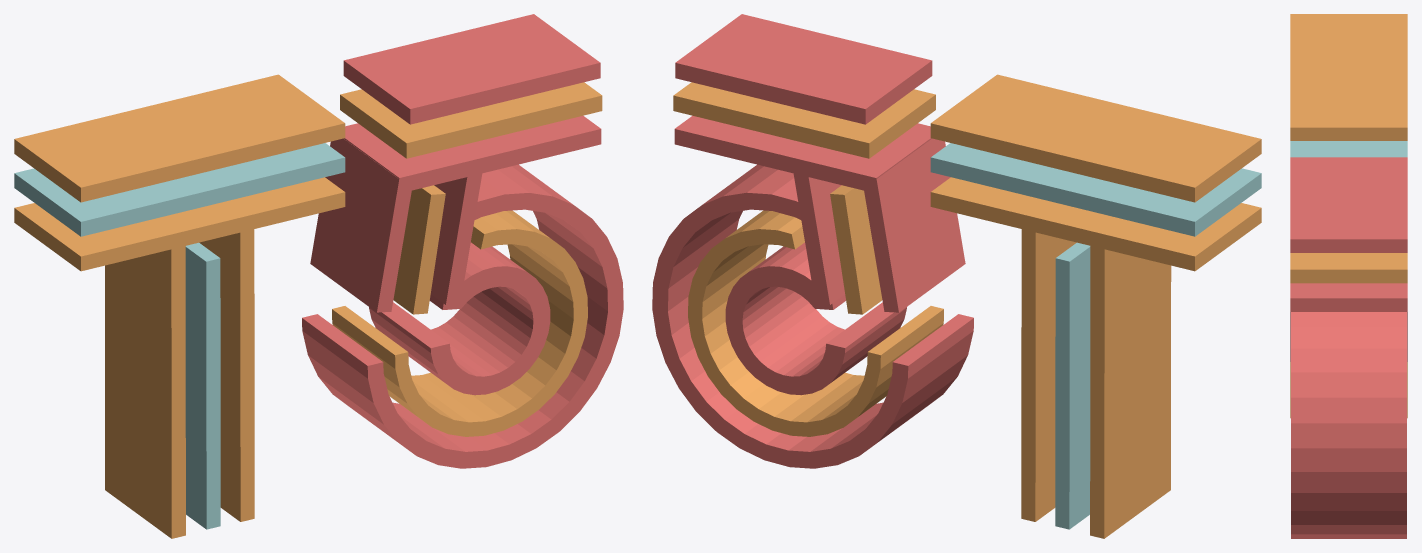
File: example.glb
3 renders of one model, left to right at view 1: azimuth 30°, elevation 25°; view 2: azimuth 150°, elevation 25°; view 3: azimuth 270°, elevation 25°, orthographic. The views are drawn at different scales.
Parts seen in each view (by area): view 1: outer-cylinder, T-Top, T-left, Cylinder-mid, 5-top, Cylinder, T-bottom, T-middle, 5-bottom.001, T-Right, T-lower-middle, 5-mid (+3 smaller); view 2: outer-cylinder, T-Top, T-left, Cylinder-mid, 5-top, Cylinder, T-bottom, T-middle, 5-bottom.001, T-Right, T-lower-middle, 5-mid (+3 smaller); view 3: outer-cylinder, T-Top, 5-top, 5-mid, 5-bottom, T-middle.
Boxes of the visible parts, x1=… form: outer-cylinder: x1=302, y1=164, x2=623, y2=468; T-Top: x1=14, y1=74, x2=345, y2=202; T-left: x1=105, y1=240, x2=185, y2=538; Cylinder-mid: x1=332, y1=210, x2=587, y2=436; 5-top: x1=343, y1=14, x2=600, y2=124; Cylinder: x1=369, y1=242, x2=550, y2=395; T-bottom: x1=14, y1=177, x2=345, y2=271; T-middle: x1=14, y1=143, x2=345, y2=236; 5-bottom.001: x1=310, y1=138, x2=412, y2=312; T-Right: x1=199, y1=224, x2=254, y2=521; T-lower-middle: x1=185, y1=242, x2=220, y2=529; 5-mid: x1=340, y1=82, x2=602, y2=158; outer-cylinder: x1=652, y1=164, x2=973, y2=468; T-Top: x1=930, y1=74, x2=1261, y2=202; T-left: x1=1090, y1=240, x2=1171, y2=538; Cylinder-mid: x1=688, y1=210, x2=943, y2=436; 5-top: x1=675, y1=14, x2=932, y2=124; Cylinder: x1=725, y1=242, x2=906, y2=395; T-bottom: x1=930, y1=177, x2=1261, y2=271; T-middle: x1=930, y1=143, x2=1261, y2=236; 5-bottom.001: x1=862, y1=138, x2=965, y2=312; T-Right: x1=1021, y1=225, x2=1076, y2=521; T-lower-middle: x1=1055, y1=242, x2=1090, y2=529; 5-mid: x1=673, y1=82, x2=935, y2=158; outer-cylinder: x1=1291, y1=312, x2=1406, y2=538; T-Top: x1=1290, y1=14, x2=1407, y2=140; 5-top: x1=1290, y1=157, x2=1407, y2=252; 5-mid: x1=1290, y1=253, x2=1407, y2=283; 5-bottom: x1=1290, y1=283, x2=1407, y2=311; T-middle: x1=1290, y1=141, x2=1407, y2=157.
Size of the model in its own units: 3.77 by 2.51 by 0.8008.
